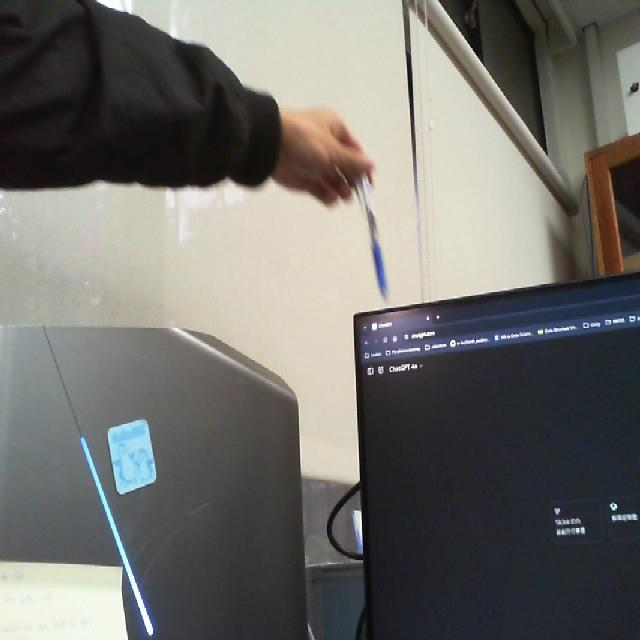Pen: (349, 144, 397, 314)
